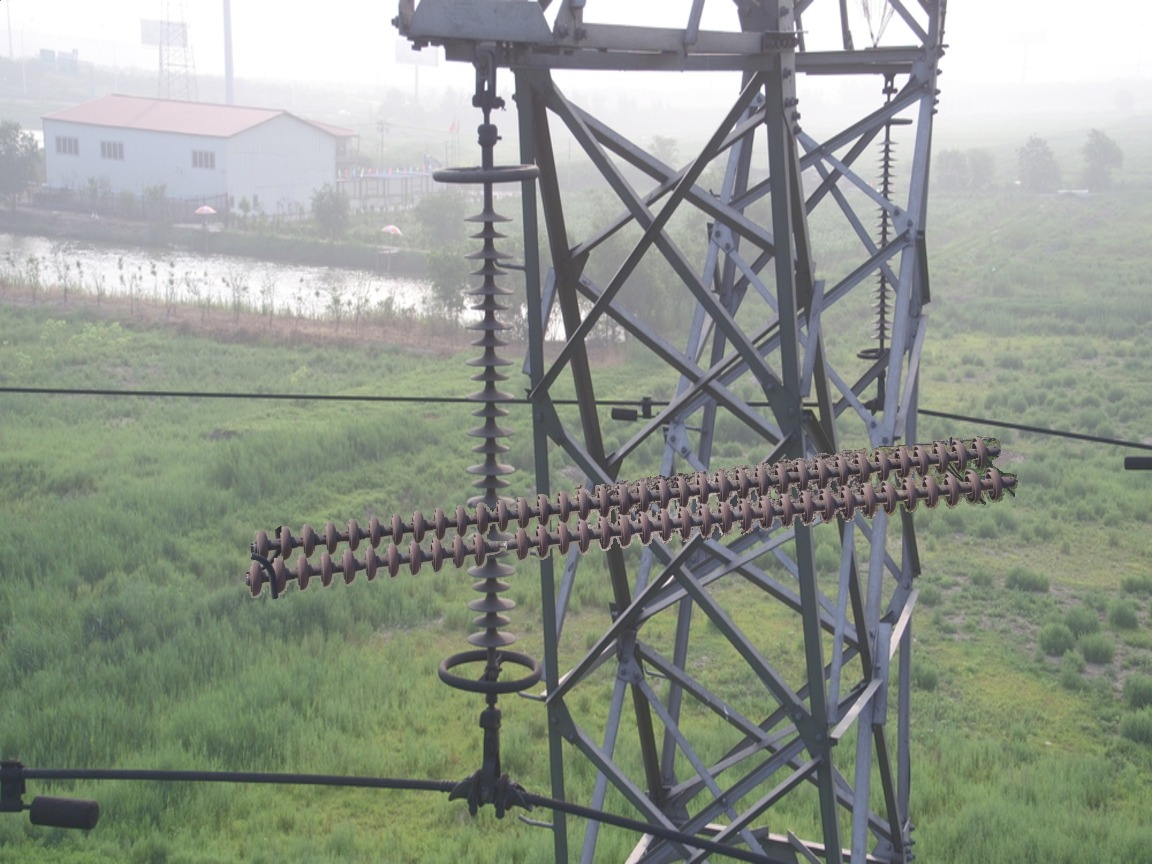defect: (465, 523, 541, 569)
